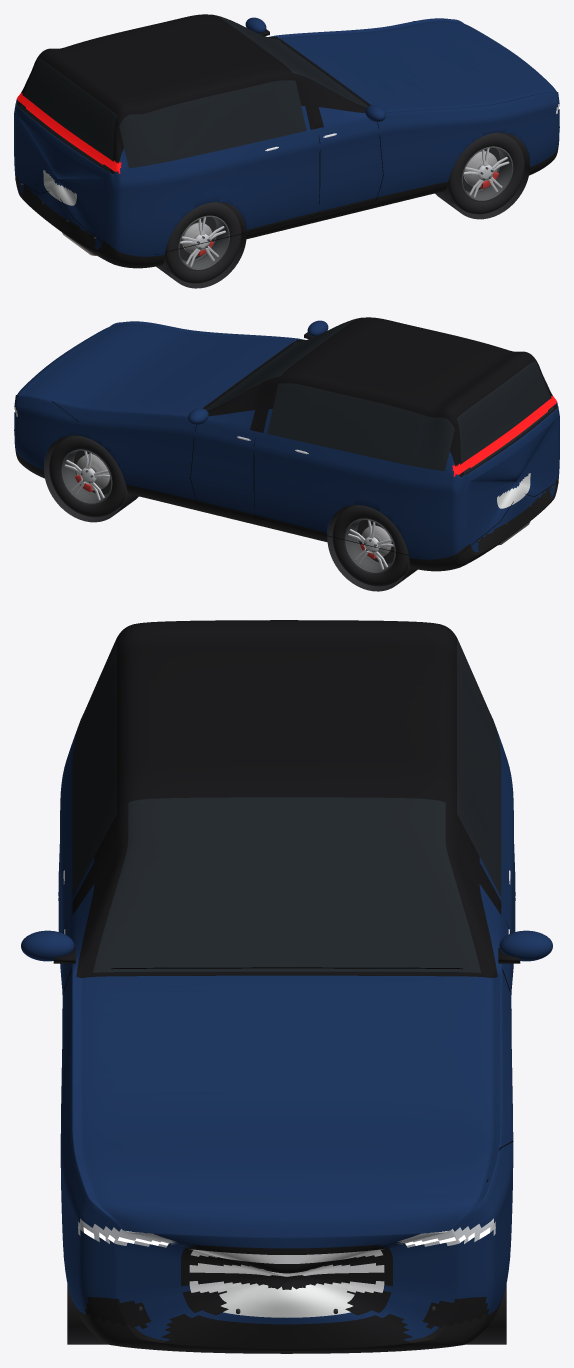
The model's file is suv.glb.
3 renders of one model, top to bottom at view 1: azimuth 30°, elevation 25°; view 2: azimuth 150°, elevation 25°; view 3: azimuth 270°, elevation 25°, orthographic. The views are drawn at different scales.
Parts seen in each view (by area): view 1: karosserie, bt:rad_vr, bt:rad_hr, radhausschale.001, radhausschale.003, bt:bremse_vr, bt:bremse_hr; view 2: karosserie, bt:rad_vl, bt:rad_hl, radhausschale, radhausschale.002, bt:bremse_vl, bt:bremse_hl; view 3: karosserie, spiegel_1, spiegel_-1, radhausschale, radhausschale.001.
Part boxes in pixels (x1=…): karosserie: x1=14, y1=14, x2=559, y2=268; bt:rad_vr: x1=448, y1=132, x2=524, y2=214; bt:rad_hr: x1=165, y1=202, x2=241, y2=283; radhausschale.001: x1=435, y1=133, x2=529, y2=219; radhausschale.003: x1=156, y1=202, x2=246, y2=288; bt:bremse_vr: x1=463, y1=151, x2=498, y2=188; bt:bremse_hr: x1=182, y1=222, x2=213, y2=255; karosserie: x1=14, y1=317, x2=559, y2=571; bt:rad_vl: x1=49, y1=435, x2=125, y2=517; bt:rad_hl: x1=332, y1=505, x2=408, y2=586; radhausschale: x1=44, y1=436, x2=138, y2=522; radhausschale.002: x1=327, y1=505, x2=417, y2=591; bt:bremse_vl: x1=75, y1=454, x2=110, y2=491; bt:bremse_hl: x1=360, y1=525, x2=391, y2=558; karosserie: x1=58, y1=620, x2=515, y2=1353; spiegel_1: x1=499, y1=930, x2=552, y2=961; spiegel_-1: x1=21, y1=930, x2=74, y2=961; radhausschale: x1=466, y1=1284, x2=506, y2=1344; radhausschale.001: x1=67, y1=1284, x2=107, y2=1344.
Size of the model in its own units: 4.46 by 1.69 by 2.18.
